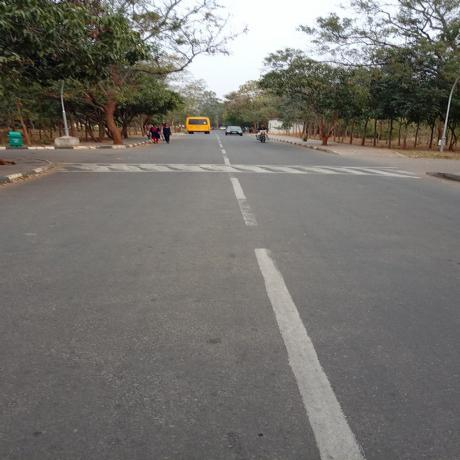Speed Bump: (58, 162, 422, 176)
